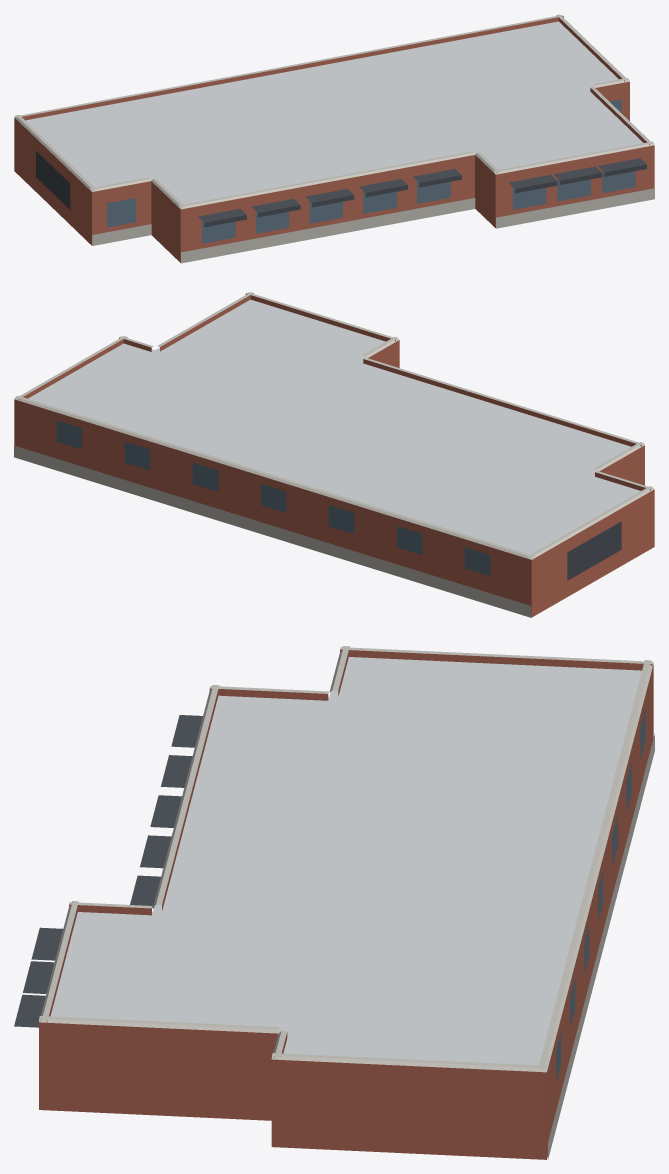
The model's file is detail.glb.
The picture shows the model from 3 angles, top to bottom: view 1: azimuth 30°, elevation 25°; view 2: azimuth 150°, elevation 25°; view 3: azimuth 270°, elevation 25°; orthographic projection. The views are drawn at different scales.
Parts seen in each view (by area): view 1: 330-camp-road; view 2: 330-camp-road; view 3: 330-camp-road.
Boxes of the visible parts, box(x1,y1,x2,y2) form: 330-camp-road: box(14, 14, 654, 263); 330-camp-road: box(14, 292, 654, 617); 330-camp-road: box(14, 646, 654, 1159).
Bounding box in the file's own units: 50.35 × 5 × 32.18.
